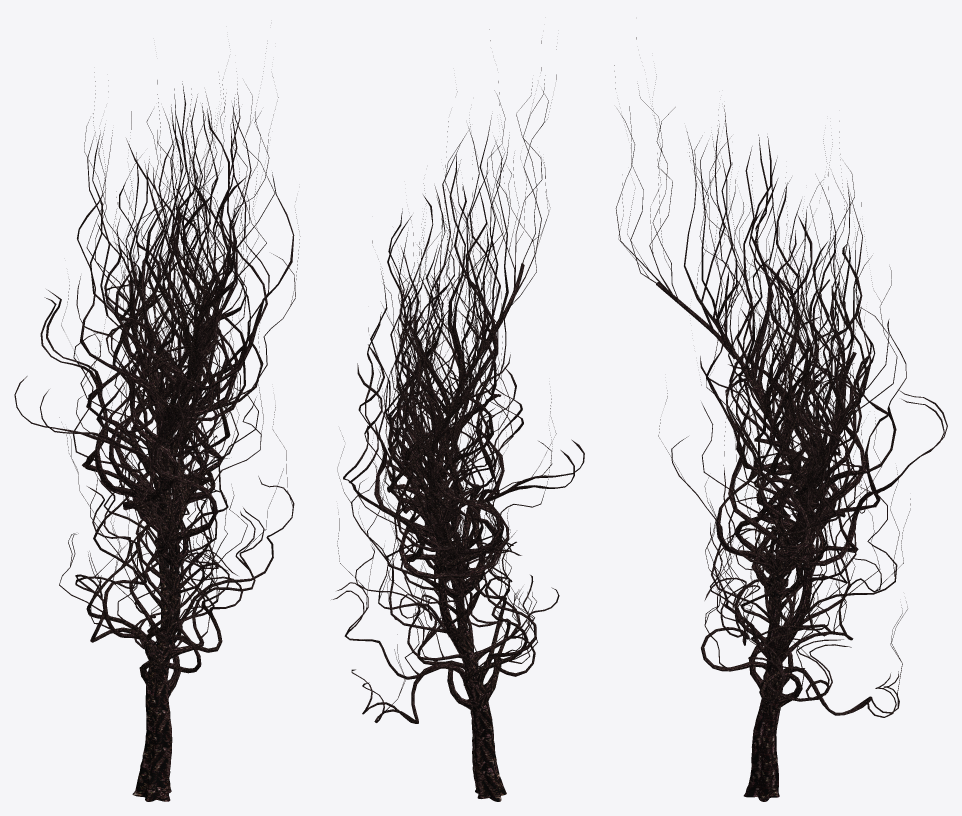
Rendered from tree9.fbx.
The picture shows the model from 3 angles, left to right: view 1: azimuth 30°, elevation 25°; view 2: azimuth 150°, elevation 25°; view 3: azimuth 270°, elevation 25°; orthographic projection. The views are drawn at different scales.
Visible parts, largest first — view 1: bark13_0; view 2: bark13_0; view 3: bark13_0.
Boxes of the visible parts, bbox=[...] form: bark13_0: bbox=[14, 43, 300, 801]; bark13_0: bbox=[331, 29, 584, 801]; bark13_0: bbox=[614, 37, 947, 801].
Bounding box in the file's own units: 635 × 1946 × 755.
1 material, 1 textured.
